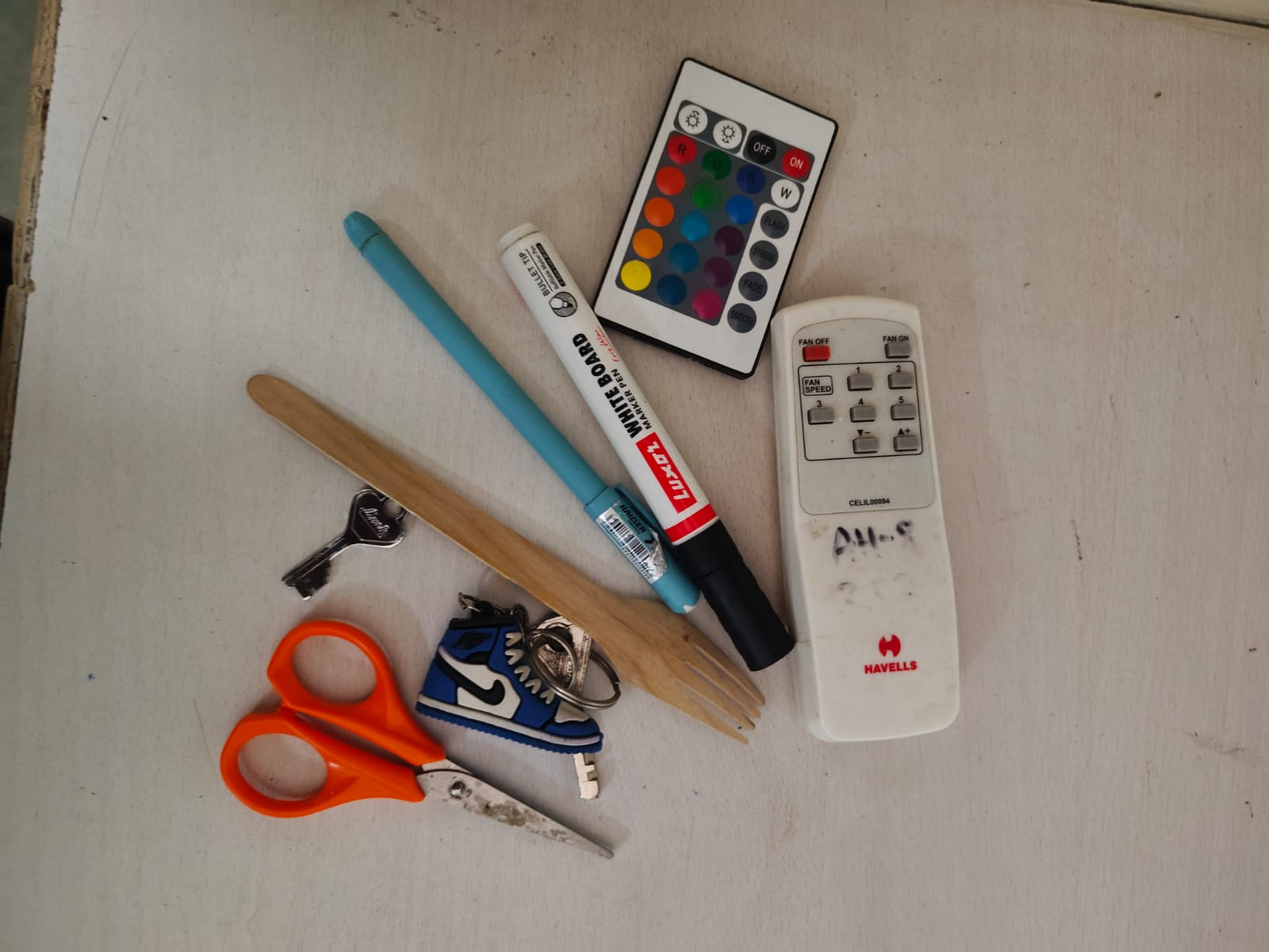case: (493, 204, 806, 674)
pen: (325, 177, 710, 619)
